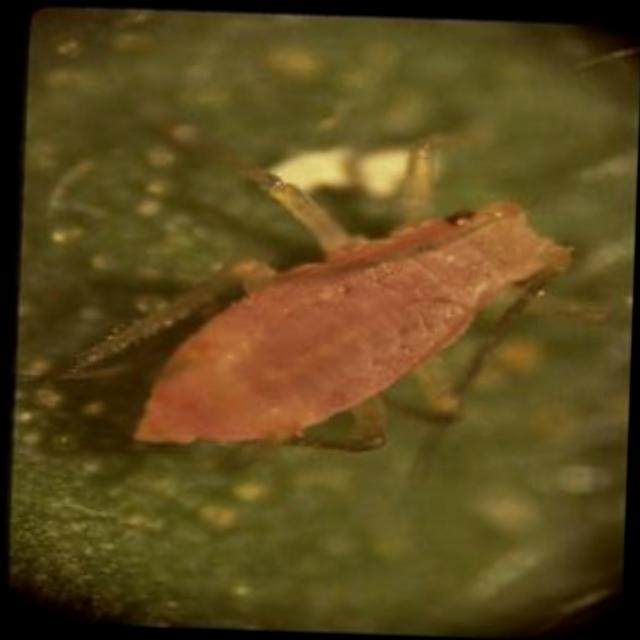Green peach aphid: (52, 81, 591, 542)
